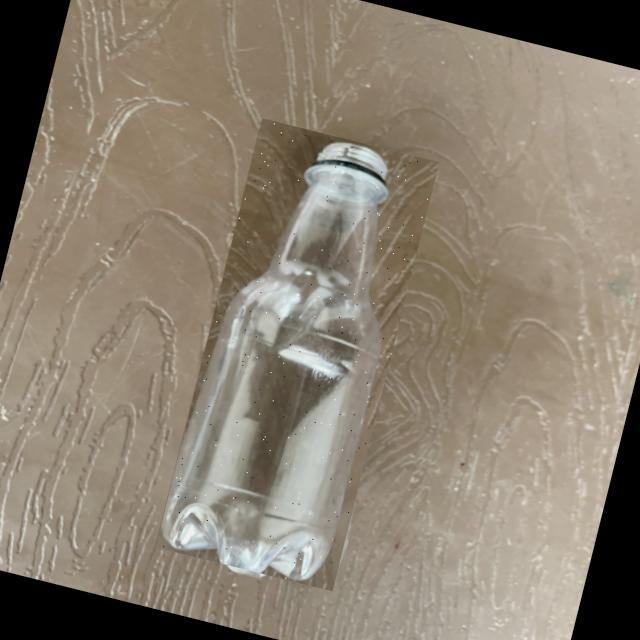PET_With_Cap: (153, 118, 438, 591)
